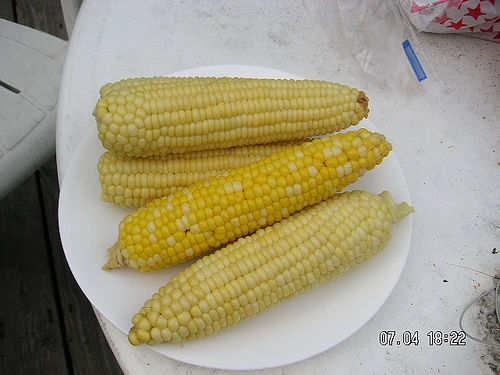corn: (127, 185, 416, 351), (101, 127, 392, 274), (88, 72, 374, 164)
